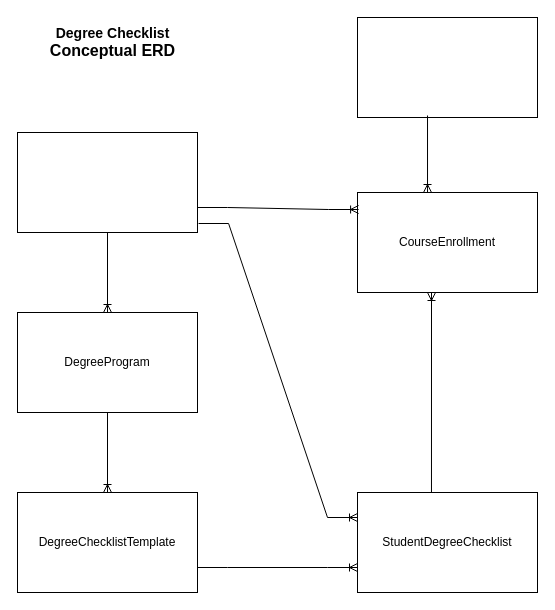
This 555x610 diagram has some shape labels left out. The shapes that lost their labels are listed below. From the top down, each one's centre as x and y in pixels, then its label:
At point (447, 67): "Course".
At point (107, 182): "Student".
